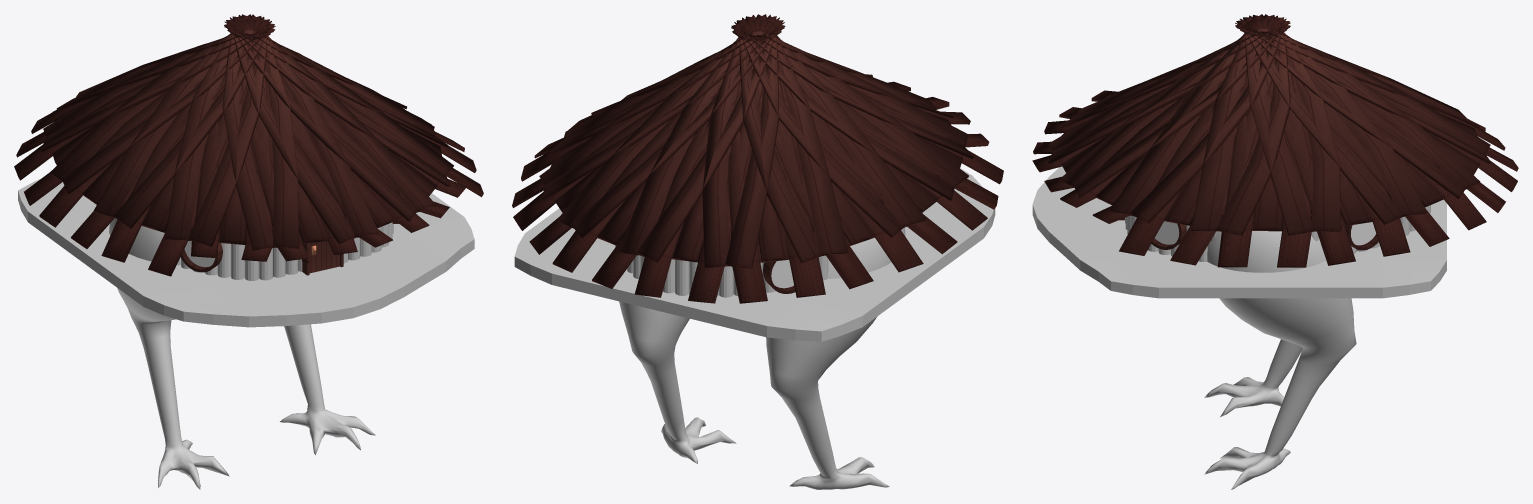
The model's file is chikn_legs.fbx.
3 views of the same model, side by side, from view 1: azimuth 30°, elevation 25°; view 2: azimuth 150°, elevation 25°; view 3: azimuth 270°, elevation 25° (orthographic). The views are drawn at different scales.
Parts seen in each view (by area): view 1: Cylinder.002; view 2: Cylinder.002; view 3: Cylinder.002.
Boxes of the visible parts, <box> form: Cylinder.002: <box>14,14,483,489</box>; Cylinder.002: <box>512,14,1003,489</box>; Cylinder.002: <box>1032,14,1518,489</box>.
Size of the model in its own units: 1525 by 1598 by 1699.
